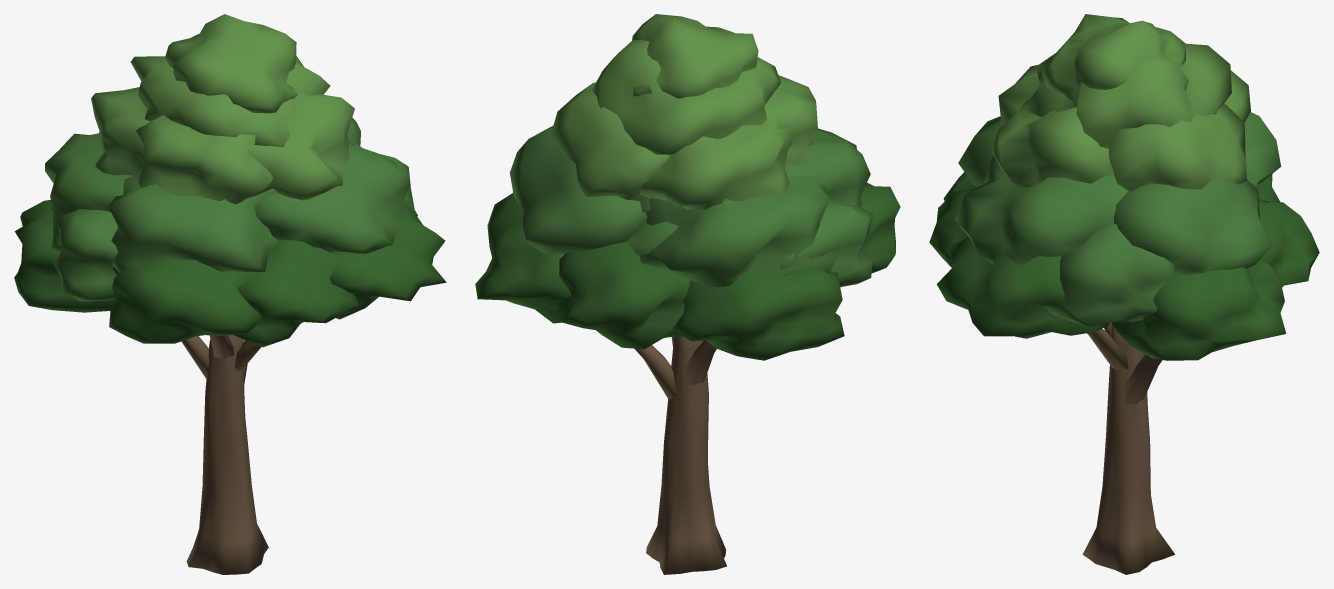
Rendered from realistic_tree.glb.
The picture shows the model from 3 angles, left to right: view 1: azimuth 30°, elevation 25°; view 2: azimuth 150°, elevation 25°; view 3: azimuth 270°, elevation 25°; orthographic projection.
Parts seen in each view (by area): view 1: BotanicalCanopy_9, MainOakTrunk, BotanicalCanopy_3, BotanicalCanopy_8, BotanicalCanopy_18, BotanicalCanopy_16, BotanicalCanopy_5, BotanicalCanopy_17, BotanicalCanopy_15, BotanicalCanopy_2, BotanicalCanopy_12, BotanicalCanopy_7 (+3 smaller); view 2: BotanicalCanopy_7, BotanicalCanopy_1, BotanicalCanopy_17, MainOakTrunk, BotanicalCanopy_4, BotanicalCanopy_6, BotanicalCanopy_14, BotanicalCanopy_13, BotanicalCanopy_18, BotanicalCanopy_0, BotanicalCanopy_12, BotanicalCanopy_9 (+5 smaller); view 3: BotanicalCanopy_0, BotanicalCanopy_6, BotanicalCanopy_8, MainOakTrunk, BotanicalCanopy_17, BotanicalCanopy_2, BotanicalCanopy_13, BotanicalCanopy_11, BotanicalCanopy_18, BotanicalCanopy_15, BotanicalCanopy_4, BotanicalCanopy_7 (+6 smaller).
Boxes of the visible parts, left/top/right/bottom form: BotanicalCanopy_9: left=108, top=174, right=278, bottom=272; MainOakTrunk: left=186, top=335, right=268, bottom=574; BotanicalCanopy_3: left=109, top=251, right=269, bottom=343; BotanicalCanopy_8: left=255, top=139, right=410, bottom=253; BotanicalCanopy_18: left=165, top=14, right=297, bottom=113; BotanicalCanopy_16: left=136, top=115, right=284, bottom=204; BotanicalCanopy_5: left=233, top=240, right=359, bottom=347; BotanicalCanopy_17: left=130, top=56, right=330, bottom=147; BotanicalCanopy_15: left=247, top=93, right=354, bottom=200; BotanicalCanopy_2: left=329, top=202, right=446, bottom=319; BotanicalCanopy_12: left=50, top=206, right=118, bottom=301; BotanicalCanopy_7: left=45, top=133, right=132, bottom=251; BotanicalCanopy_7: left=640, top=175, right=836, bottom=287; BotanicalCanopy_1: left=672, top=266, right=844, bottom=360; BotanicalCanopy_17: left=592, top=40, right=780, bottom=154; MainOakTrunk: left=646, top=337, right=726, bottom=574; BotanicalCanopy_4: left=553, top=242, right=689, bottom=349; BotanicalCanopy_6: left=510, top=126, right=647, bottom=254; BotanicalCanopy_14: left=640, top=119, right=792, bottom=209; BotanicalCanopy_13: left=551, top=82, right=669, bottom=212; BotanicalCanopy_18: left=632, top=14, right=758, bottom=98; BotanicalCanopy_0: left=475, top=193, right=571, bottom=323; BotanicalCanopy_12: left=779, top=200, right=873, bottom=287; BotanicalCanopy_9: left=784, top=128, right=870, bottom=207; BotanicalCanopy_0: left=1112, top=260, right=1286, bottom=360; BotanicalCanopy_6: left=1113, top=178, right=1271, bottom=274; BotanicalCanopy_8: left=954, top=157, right=1128, bottom=264; MainOakTrunk: left=1082, top=323, right=1174, bottom=574; BotanicalCanopy_17: left=1023, top=43, right=1231, bottom=148; BotanicalCanopy_2: left=936, top=237, right=1109, bottom=338; BotanicalCanopy_13: left=1108, top=104, right=1246, bottom=191; BotanicalCanopy_11: left=1043, top=222, right=1174, bottom=326; BotanicalCanopy_18: left=1041, top=14, right=1188, bottom=107; BotanicalCanopy_15: left=991, top=98, right=1114, bottom=187; BotanicalCanopy_4: left=1258, top=197, right=1319, bottom=287; BotanicalCanopy_7: left=1244, top=112, right=1281, bottom=188.
Size of the model in its own units: 5.34 by 7.78 by 5.13.
